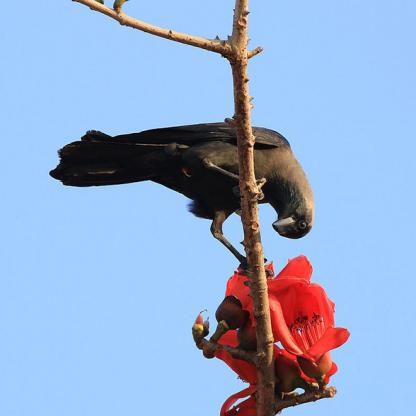Burung: (50, 121, 314, 277)
